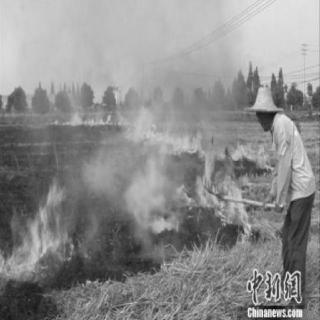Fire: (170, 153, 247, 239), (142, 120, 208, 160), (50, 113, 132, 130), (230, 140, 272, 169)
